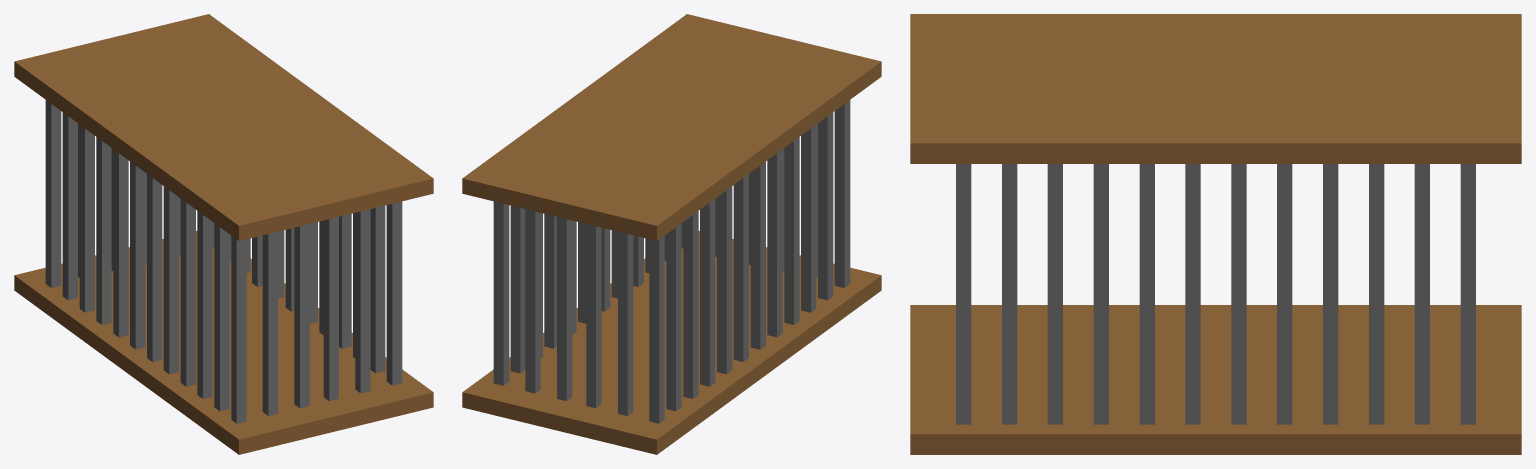
Rendered from Cage.fbx.
3 renders of one model, left to right at view 1: azimuth 30°, elevation 25°; view 2: azimuth 150°, elevation 25°; view 3: azimuth 270°, elevation 25°, orthographic. The views are drawn at different scales.
Visible parts, largest first — view 1: Cage; view 2: Cage; view 3: Cage.
Boxes of the visible parts, x1,y1,x2,y2 form: Cage: [14, 14, 433, 454]; Cage: [462, 14, 881, 454]; Cage: [910, 14, 1521, 454].
Size of the model in its own units: 120 by 135 by 240.
